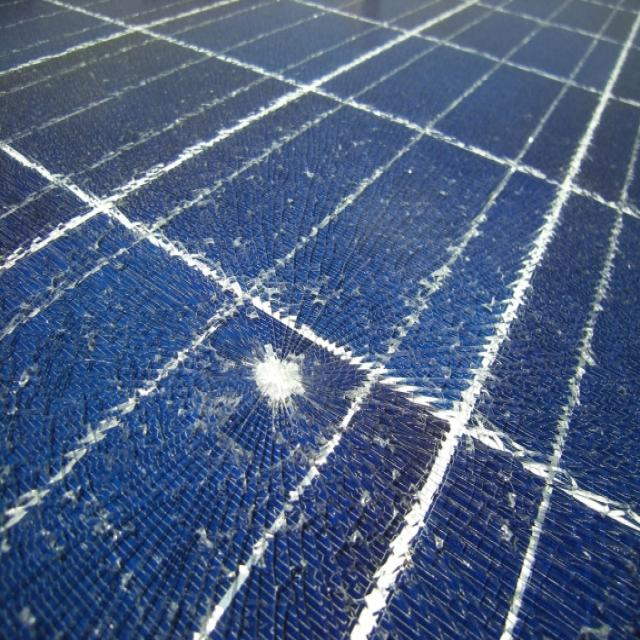physical damage: (1, 0, 638, 640)
